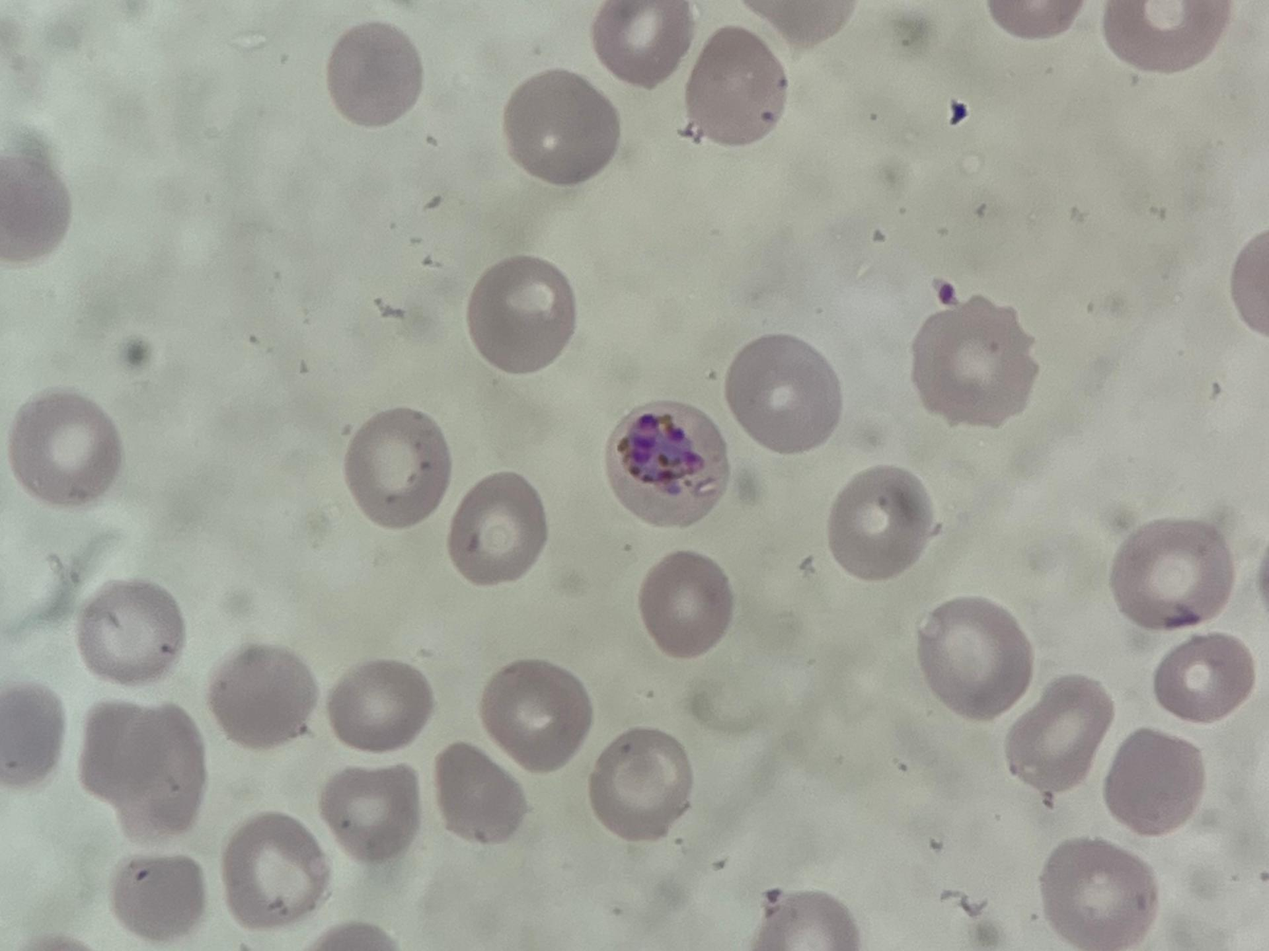Infected: (604, 399, 736, 531)
Uninfected: (75, 692, 207, 843), (727, 333, 849, 461), (914, 300, 1038, 425), (1035, 833, 1154, 951), (474, 662, 593, 778), (1009, 670, 1113, 800), (4, 388, 116, 508), (919, 596, 1030, 716), (220, 814, 333, 931), (507, 67, 617, 186), (341, 410, 445, 534), (1106, 521, 1229, 624), (833, 463, 933, 587), (469, 256, 571, 373), (1097, 728, 1204, 837), (205, 646, 320, 747), (449, 468, 546, 586), (692, 27, 786, 143), (313, 767, 423, 865), (641, 551, 733, 668), (593, 730, 693, 837), (328, 23, 430, 126), (84, 580, 185, 683), (432, 737, 527, 844), (1106, 0, 1231, 80), (330, 662, 436, 755), (1154, 635, 1254, 722), (110, 847, 206, 937), (593, 0, 690, 89)
